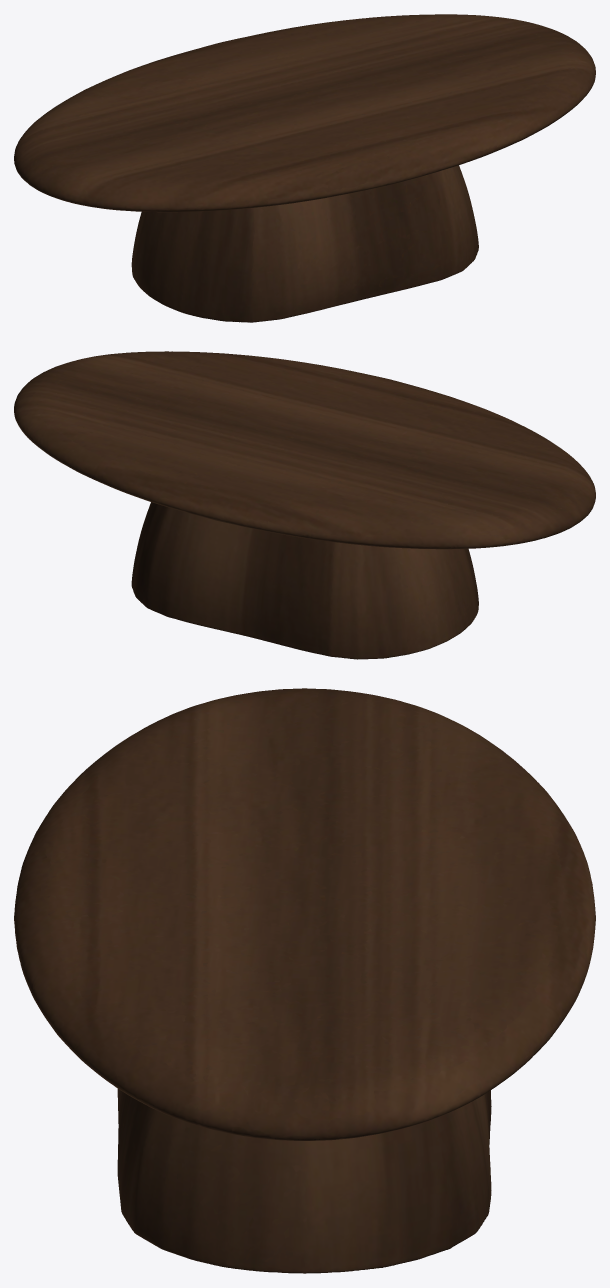
The model's file is RZBZkT_GKhpaDbn69_pQg.glb.
The picture shows the model from 3 angles, top to bottom: view 1: azimuth 30°, elevation 25°; view 2: azimuth 150°, elevation 25°; view 3: azimuth 270°, elevation 25°; orthographic projection. The views are drawn at different scales.
Visible parts, largest first — view 1: world; view 2: world; view 3: world.
Part boxes in pixels (x1,y1,x2,y2): world: [14, 14, 595, 322]; world: [14, 351, 595, 659]; world: [14, 688, 595, 1273].
Bounding box in the file's own units: 1 × 0.2787 × 0.5631.
1 material, 1 textured.
